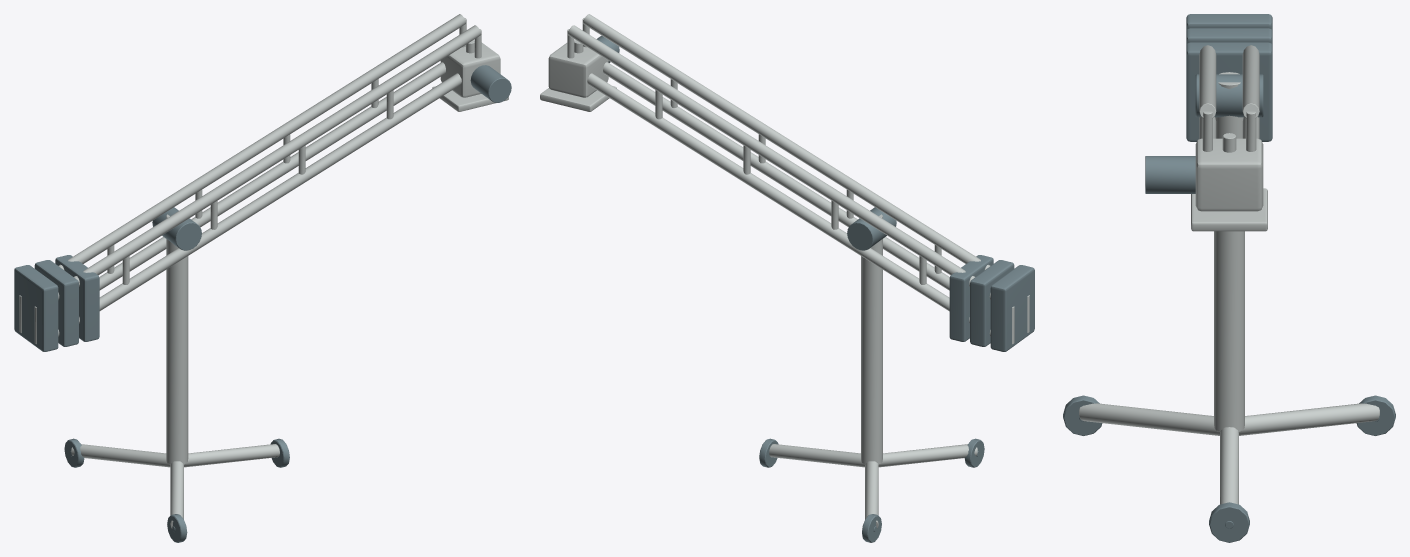
File: jib-crane.glb
The picture shows the model from 3 angles, left to right: view 1: azimuth 30°, elevation 25°; view 2: azimuth 150°, elevation 25°; view 3: azimuth 270°, elevation 25°; orthographic projection. The views are drawn at different scales.
Parts seen in each view (by area): view 1: jib_upper_rail.001, jib_upper_rail, jib_lower_rail.001, crane_column, jib_lower_rail, counterweight, counterweight.001, counterweight.002, camera, base_spoke, base_spoke.002, camera_lens (+3 smaller); view 2: jib_upper_rail, jib_upper_rail.001, jib_lower_rail, crane_column, jib_lower_rail.001, counterweight, camera, counterweight.001, counterweight.002, base_spoke, base_spoke.001, pivot_axle (+2 smaller); view 3: crane_column, camera, counterweight.002, base_spoke.001, base_spoke.002, camera_lens, camera_platform, pivot_axle, base_spoke, counterweight, counterweight.001, crane_caster_wheel (+6 smaller).
Part boxes in pixels (x1,y1,x2,y2): jib_upper_rail.001: [58, 25, 481, 299]; jib_upper_rail: [58, 14, 465, 269]; jib_lower_rail.001: [58, 73, 461, 336]; crane_column: [166, 214, 188, 464]; jib_lower_rail: [99, 62, 445, 290]; counterweight: [14, 265, 58, 351]; counterweight.001: [34, 260, 78, 346]; counterweight.002: [55, 255, 99, 341]; camera: [440, 42, 500, 97]; base_spoke: [184, 444, 279, 467]; base_spoke.002: [71, 444, 170, 467]; camera_lens: [470, 65, 511, 102]; jib_upper_rail: [567, 25, 990, 299]; jib_upper_rail.001: [583, 14, 990, 269]; jib_lower_rail: [587, 73, 990, 336]; crane_column: [861, 214, 882, 464]; jib_lower_rail.001: [603, 62, 949, 290]; counterweight: [990, 265, 1034, 351]; camera: [548, 43, 608, 97]; counterweight.001: [970, 260, 1014, 346]; counterweight.002: [949, 255, 993, 341]; base_spoke: [769, 444, 864, 467]; base_spoke.001: [878, 444, 977, 467]; pivot_axle: [847, 207, 896, 250]; crane_column: [1214, 72, 1244, 431]; camera: [1195, 138, 1263, 211]; counterweight.002: [1186, 42, 1272, 141]; base_spoke.001: [1079, 403, 1219, 435]; base_spoke.002: [1239, 403, 1379, 435]; camera_lens: [1145, 156, 1195, 193]; camera_platform: [1191, 188, 1267, 231]; pivot_axle: [1195, 74, 1263, 117]; base_spoke: [1220, 427, 1238, 504]; counterweight: [1186, 14, 1272, 31]; counterweight.001: [1186, 28, 1272, 45]; crane_caster_wheel: [1209, 502, 1249, 542].
Bounding box in the file's own units: 3.2 × 2.61 × 1.38.
